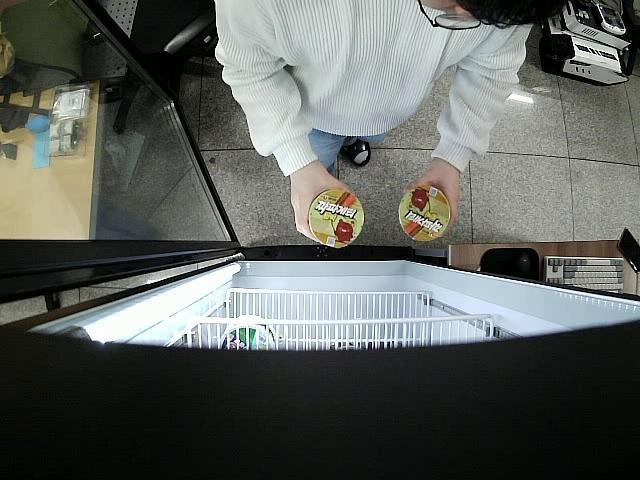04_chapagetti_S: (308, 190, 365, 247), (398, 187, 453, 244)
